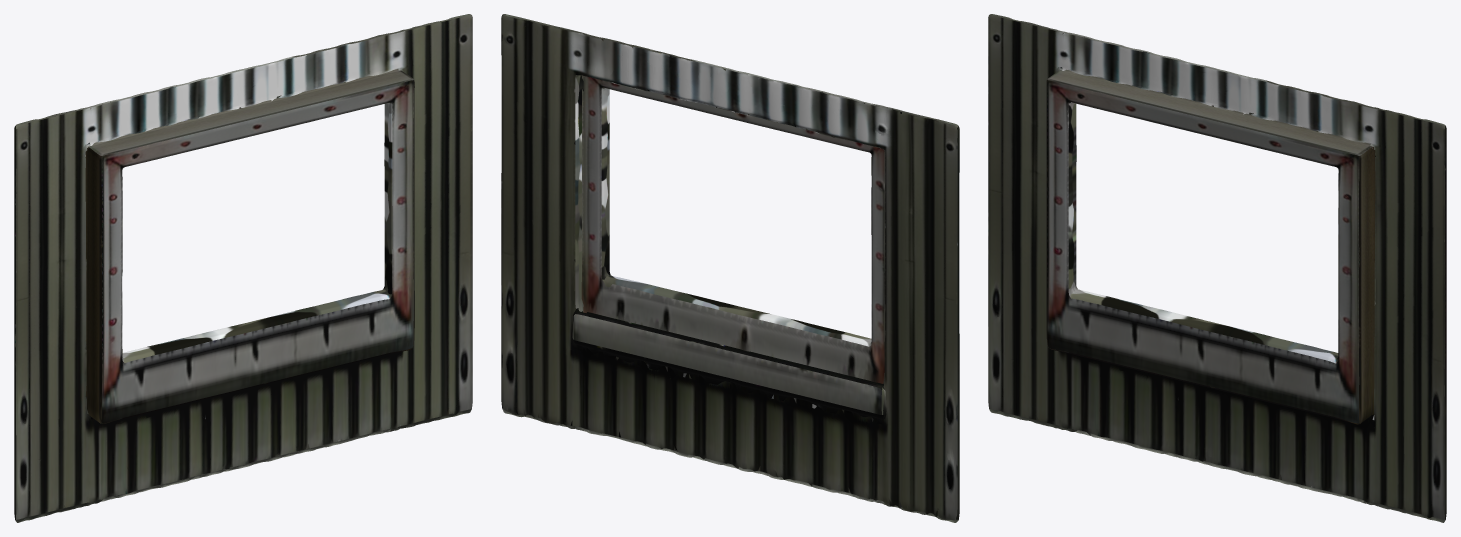
The model's file is Wall-Industrial-3.glb.
The picture shows the model from 3 angles, left to right: view 1: azimuth 30°, elevation 25°; view 2: azimuth 150°, elevation 25°; view 3: azimuth 330°, elevation 25°; orthographic projection.
Visible parts, largest first — view 1: tmpuwdwy58k.ply; view 2: tmpuwdwy58k.ply; view 3: tmpuwdwy58k.ply.
Part boxes in pixels (left/top/right/bottom): tmpuwdwy58k.ply: left=14, top=14, right=472, bottom=522; tmpuwdwy58k.ply: left=501, top=14, right=959, bottom=522; tmpuwdwy58k.ply: left=988, top=14, right=1446, bottom=522.
Bounding box in the file's own units: 3 × 2.5 × 0.2.
1 material, 1 textured.
